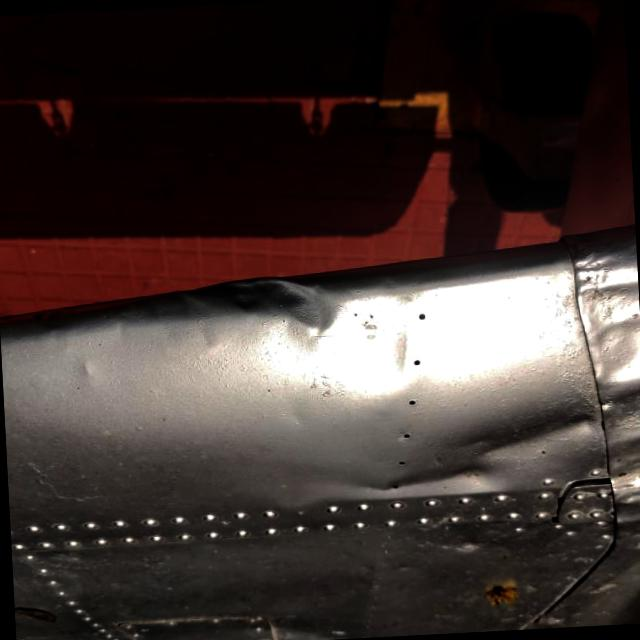dent: (346, 376, 614, 522), (194, 254, 330, 358)
